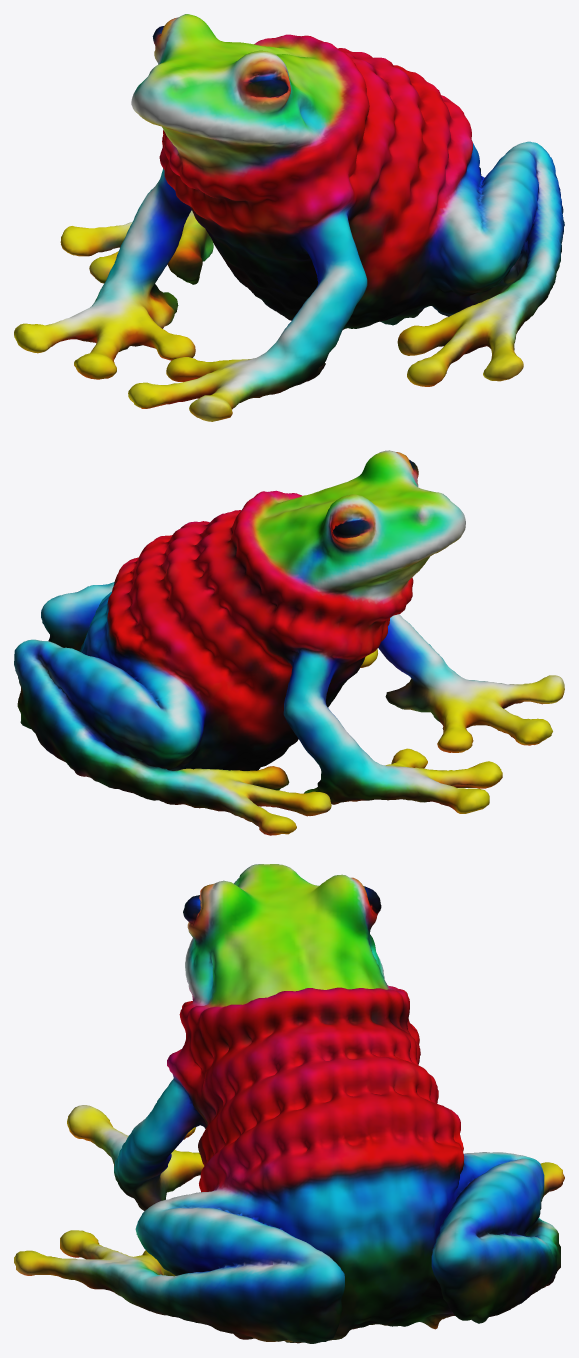
Rendered from sweaterfrog_1step.glb.
3 views of the same model, one above another, from view 1: azimuth 30°, elevation 25°; view 2: azimuth 150°, elevation 25°; view 3: azimuth 270°, elevation 25° (orthographic). The views are drawn at different scales.
Parts seen in each view (by area): view 1: world; view 2: world; view 3: world.
Part boxes in pixels (x1,y1,x2,y2): world: (14,14,564,421); world: (14,450,564,835); world: (14,864,564,1343).
Size of the model in its own units: 1.23 by 0.7734 by 1.1.
